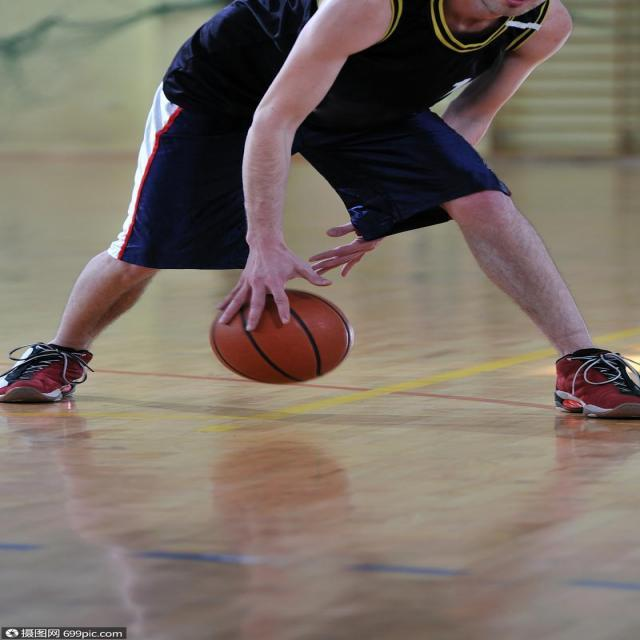rim: (205, 290, 358, 384)
